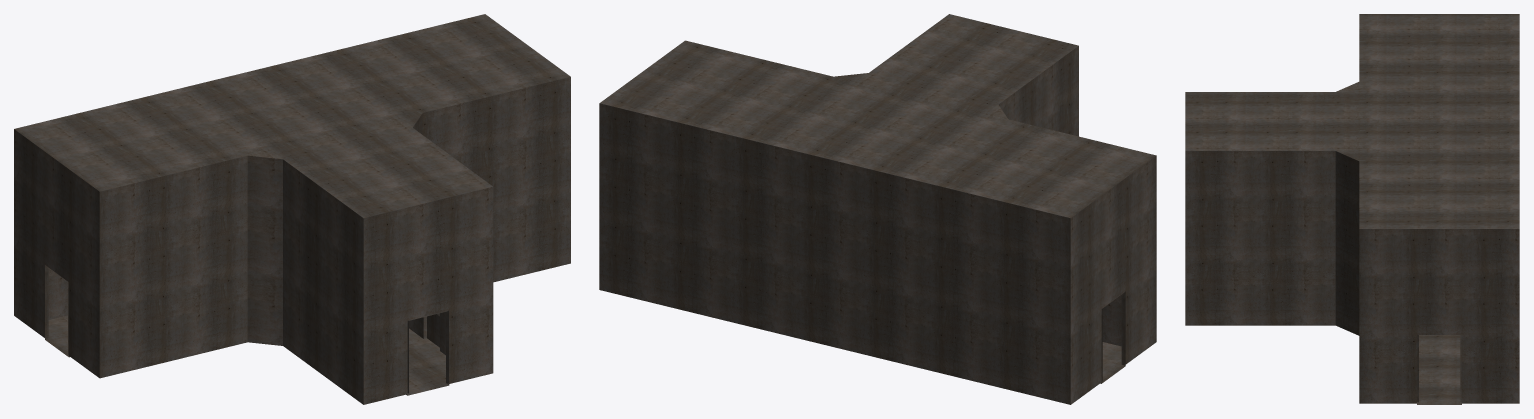
The model's file is LIGHT_TEST_3WayTall_DoorType_A.glb.
3 views of the same model, side by side, from view 1: azimuth 30°, elevation 25°; view 2: azimuth 150°, elevation 25°; view 3: azimuth 270°, elevation 25° (orthographic). The views are drawn at different scales.
Parts seen in each view (by area): view 1: geo_0; view 2: geo_0; view 3: geo_0.
Boxes of the visible parts, x1,y1,x2,y2 form: geo_0: (14, 14, 570, 404); geo_0: (599, 14, 1156, 404); geo_0: (1185, 14, 1519, 404).
Size of the model in its own units: 50.18 by 19.15 by 33.
Materials: 2 (2 with a texture image).
